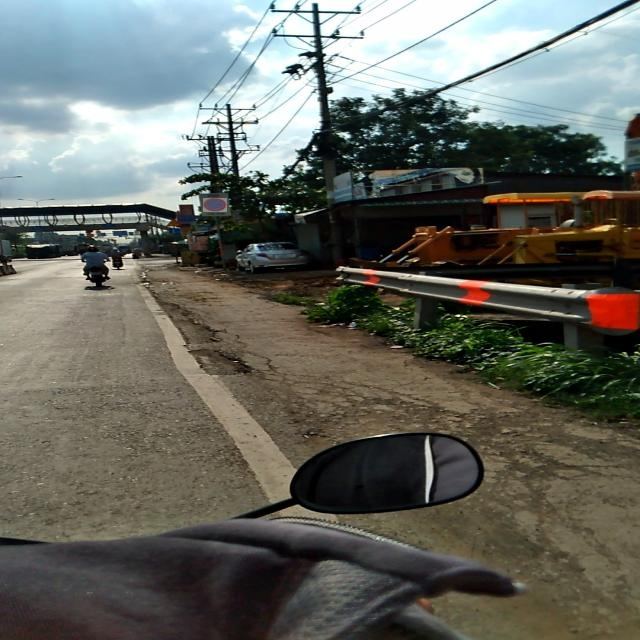bien_cam: (203, 198, 227, 212)
